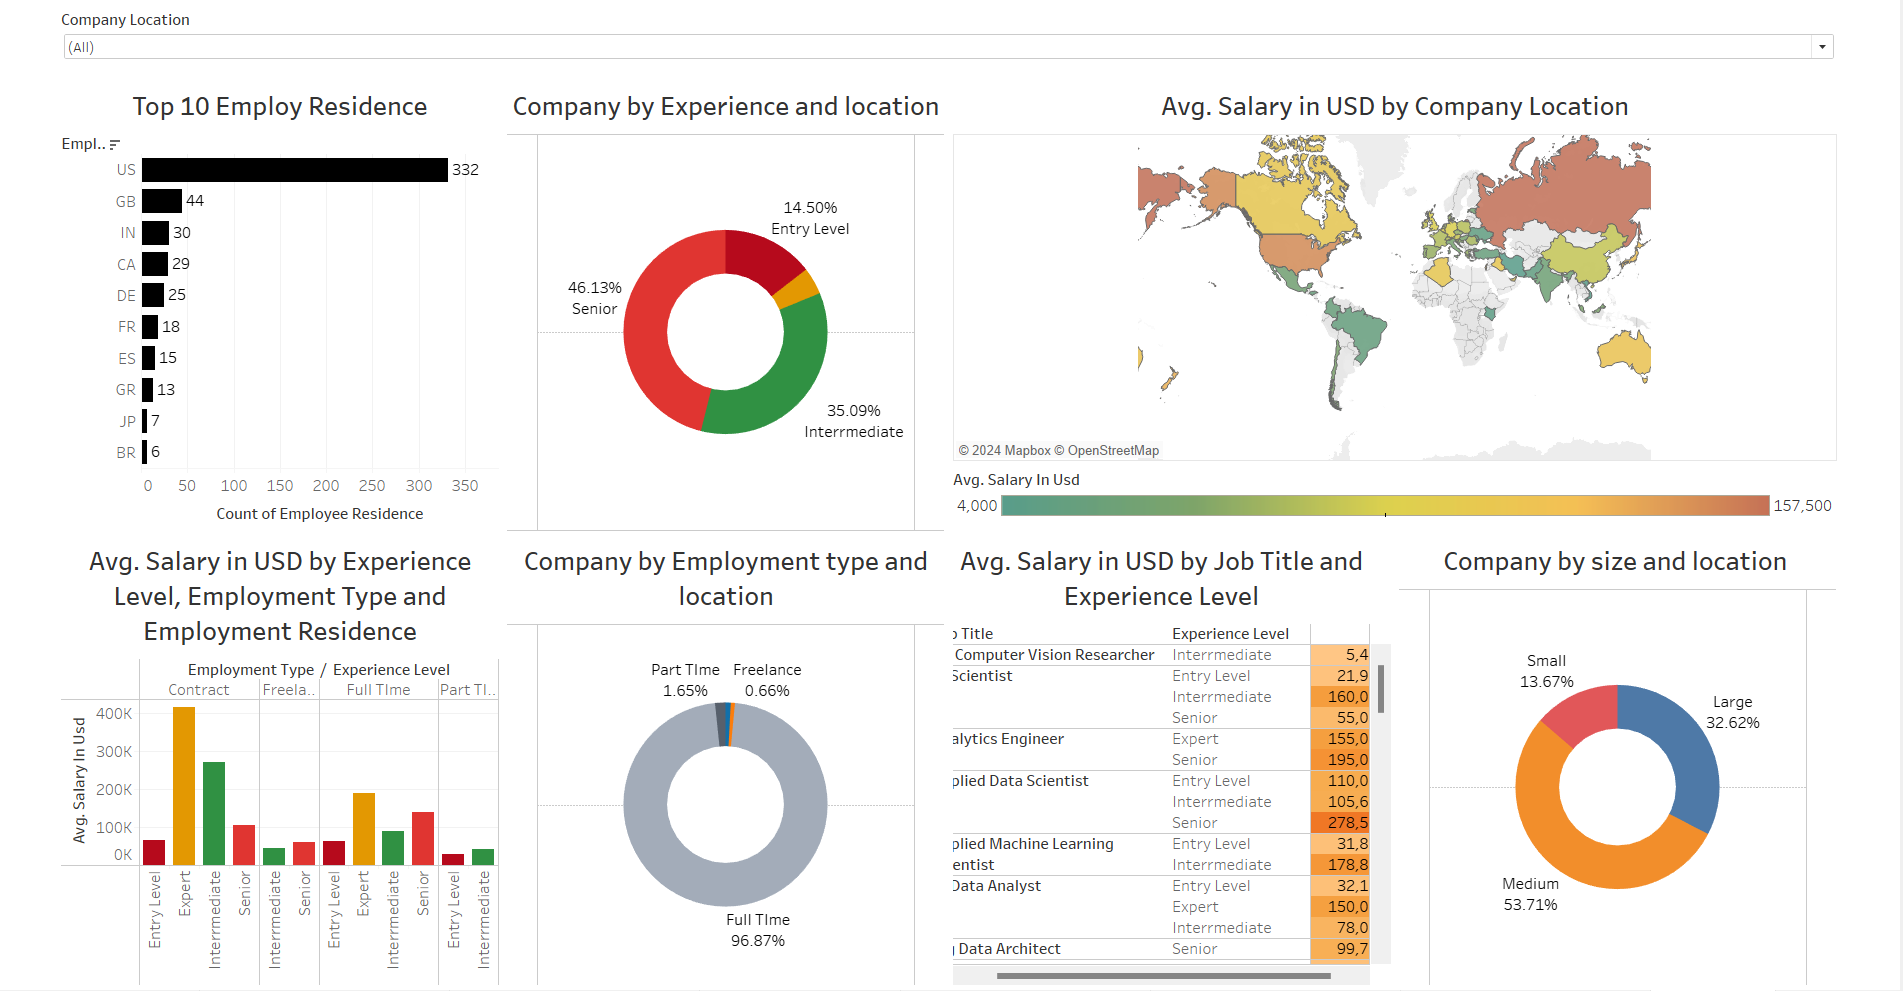

The page's visual inventory and layout, read from the dashboard file:
{"tool":"tableau","page":{"name":"Dashboard 1","canvas":[1800,1000],"ordinal":0},"visuals":[{"type":"filter","title":"Company by Experience and location","param":"[federated.1yegslu0med6kl1ffhwgr0lkgoqe].[none:company_location:nk]","box":[8,8,1784,61]},{"type":"worksheet","title":"Top 10 Employ Residence","mark":"Automatic","rows":["employee_residence"],"cols":["employee_residence"],"box":[8,83,446,454.5]},{"type":"worksheet","title":"Company by Experience and location","mark":"Pie","rows":["Calculation_1022317136944889859","Calculation_1022317136944889859"],"box":[454,83,446,454.5]},{"type":"worksheet","title":"Avg. Salary in USD by Company Location","mark":"Automatic","box":[900,83,892,385.2]},{"type":"legend","title":"Avg. Salary in USD by Company Location","param":"[federated.1yegslu0med6kl1ffhwgr0lkgoqe].[avg:salary_in_usd:qk]","box":[900,468.2,892,69.3]},{"type":"worksheet","title":"Avg. Salary in USD by Experience Level, Employment Type and Employment Residence","mark":"Automatic","rows":["salary_in_usd"],"cols":["employment_type","experience_level"],"box":[8,537.5,446,454.5]},{"type":"worksheet","title":"Company by Employment type and location","mark":"Pie","rows":["Calculation_1022317136944889859","Calculation_1022317136944889859"],"box":[454,537.5,446,454.5]},{"type":"worksheet","title":"Avg. Salary in USD by Job Title and Experience Level","mark":"Square","rows":["job_title","experience_level"],"box":[900,537.5,446,454.5]},{"type":"worksheet","title":"Company by size and location ","mark":"Pie","rows":["Calculation_1022317136944889859","Calculation_1022317136944889859"],"box":[1346,537.5,446,454.5]}]}

Visuals, with their boxes on the page's 1800x1000 design canvas (x1, y1, x2, y2). These are canvas units, not pixel positions in the 1903x991 screenshot, which may show the page scaled, cropped or inside an application window:
"Company by Experience and location" filter: bbox=(8, 8, 1792, 69)
"Top 10 Employ Residence" worksheet: bbox=(8, 83, 454, 538)
"Company by Experience and location" worksheet (Pie marks): bbox=(454, 83, 900, 538)
"Avg. Salary in USD by Company Location" worksheet: bbox=(900, 83, 1792, 468)
"Avg. Salary in USD by Company Location" legend: bbox=(900, 468, 1792, 538)
"Avg. Salary in USD by Experience Level, Employment Type and Employment Residence" worksheet: bbox=(8, 538, 454, 992)
"Company by Employment type and location" worksheet (Pie marks): bbox=(454, 538, 900, 992)
"Avg. Salary in USD by Job Title and Experience Level" worksheet (Square marks): bbox=(900, 538, 1346, 992)
"Company by size and location " worksheet (Pie marks): bbox=(1346, 538, 1792, 992)
